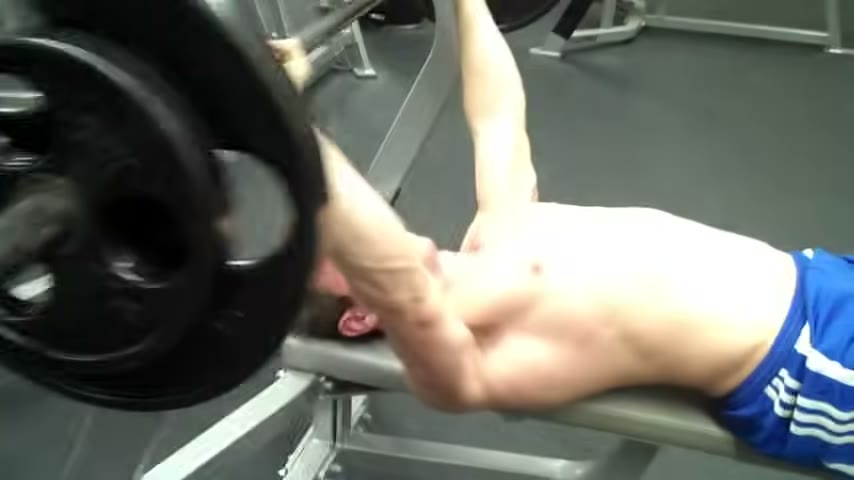barbell_plate_side: (0, 20, 88, 480)
